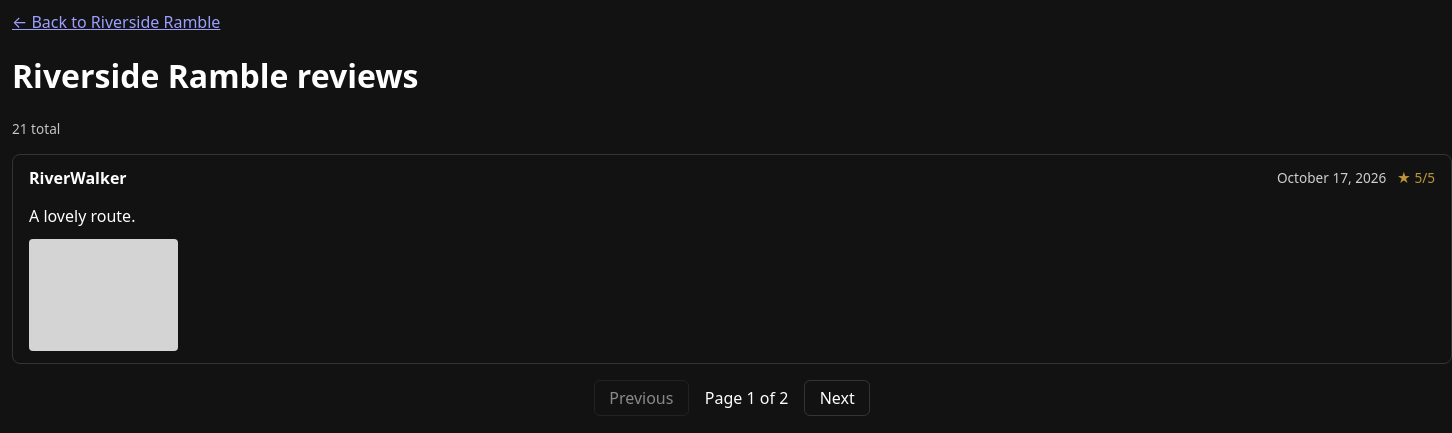
LabReviews › loads the next review page and highlights recommended ratings
Click the button "Next": (837, 398) [804,380,870,416]
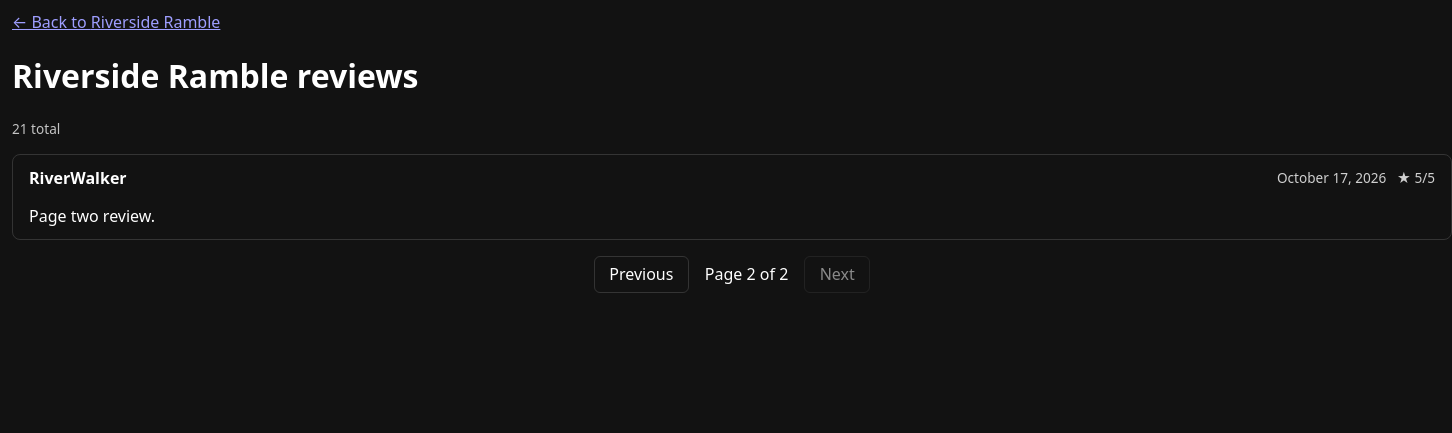
Expected: the text "Page two review." is shown, [29,205,155,227]
Expected: the text "A lovely route." is gone
